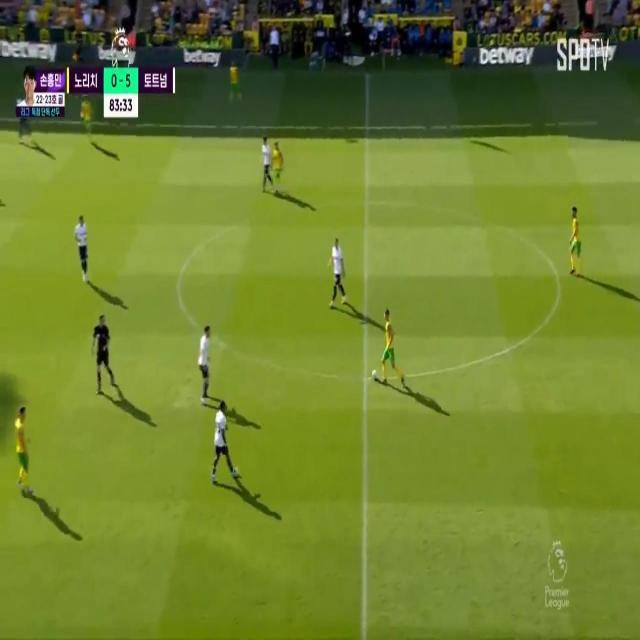ball: (369, 367, 381, 384)
player: (382, 302, 403, 385), (214, 392, 230, 484), (566, 202, 582, 273), (14, 402, 28, 483), (195, 319, 210, 390), (73, 214, 88, 279), (257, 132, 273, 192), (80, 94, 96, 151), (330, 238, 345, 298), (273, 137, 282, 187)
referee: (92, 306, 113, 388)
